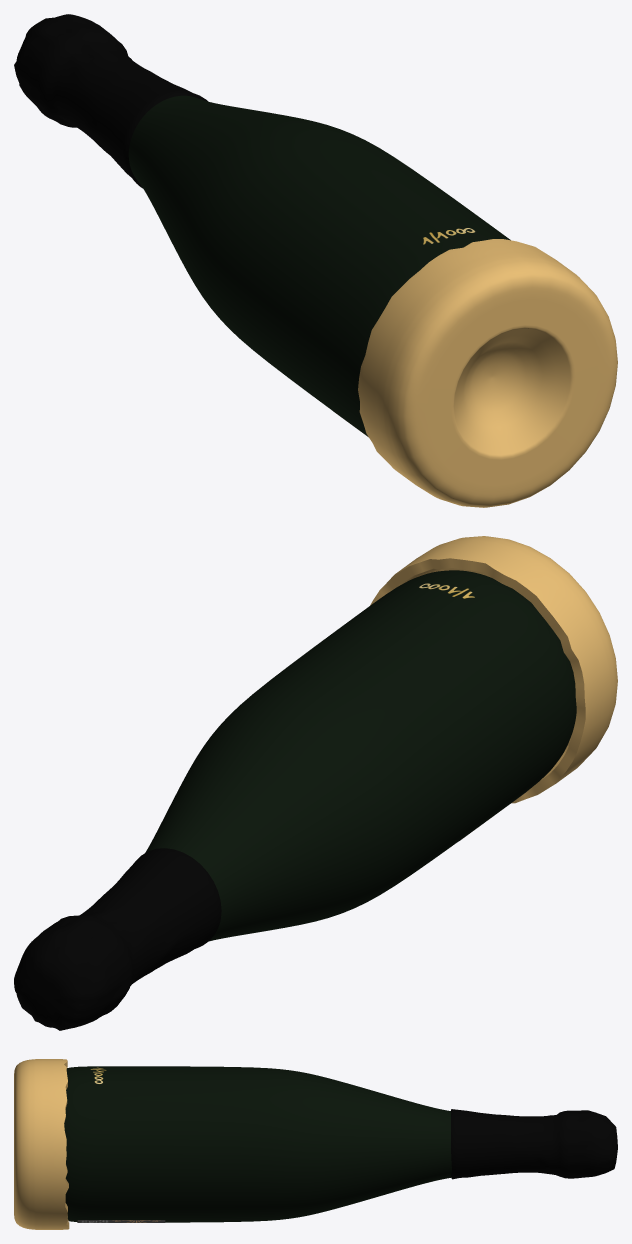
Rendered from KxCHBottle9.glb.
The picture shows the model from 3 angles, top to bottom: view 1: azimuth 30°, elevation 25°; view 2: azimuth 150°, elevation 25°; view 3: azimuth 270°, elevation 25°; orthographic projection. The views are drawn at different scales.
Parts seen in each view (by area): view 1: OG, Base without top.002, Cylinder.007; view 2: OG, Cylinder.007, Base without top.002; view 3: OG, Cylinder.007, Base without top.002, Plane.001.
Boxes of the visible parts, x1,y1,x2,y2 form: OG: (128,95,510,436); Base without top.002: (358,239,617,507); Cylinder.007: (14,14,207,188); OG: (145,570,576,941); Cylinder.007: (14,848,221,1030); Base without top.002: (370,536,617,803); OG: (64,1066,451,1222); Cylinder.007: (451,1109,617,1179); Base without top.002: (14,1059,69,1229); Plane.001: (77,1220,165,1222).
Size of the model in its own units: 0.7213 by 0.7281 by 2.57.
Materials: 6 (2 with a texture image).
